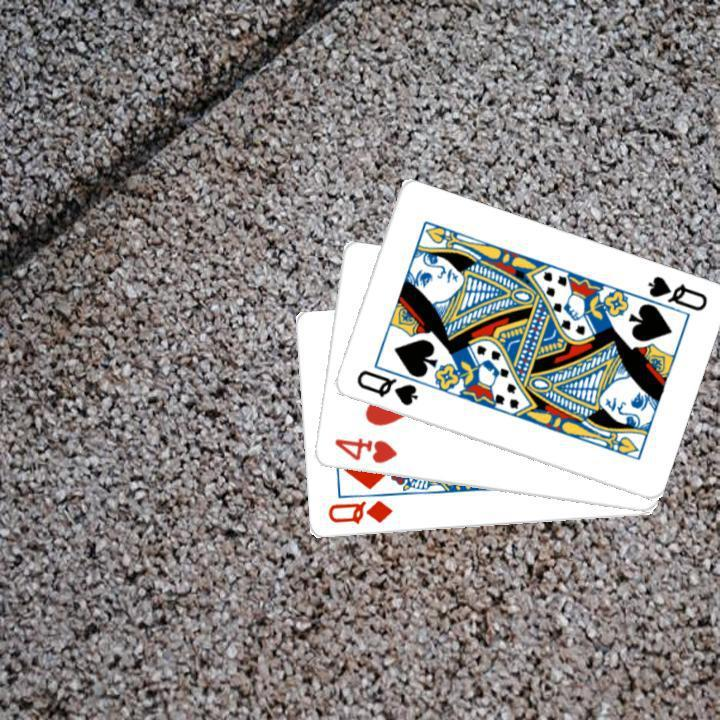4: (330, 434, 398, 466)
Q: (351, 365, 420, 408), (642, 271, 709, 314), (323, 496, 394, 527)
